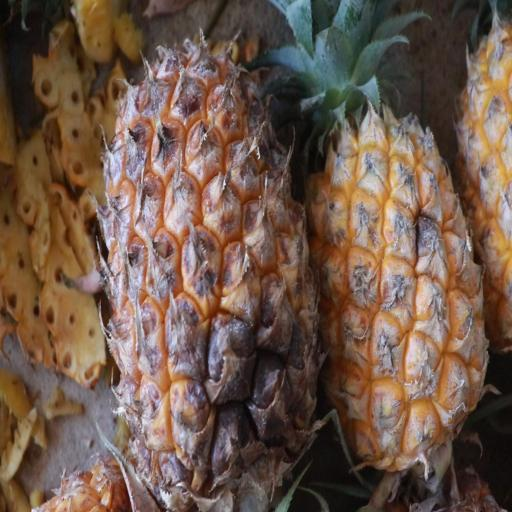Pineapple - v8 v1: (98, 25, 325, 512), (307, 8, 498, 487)
